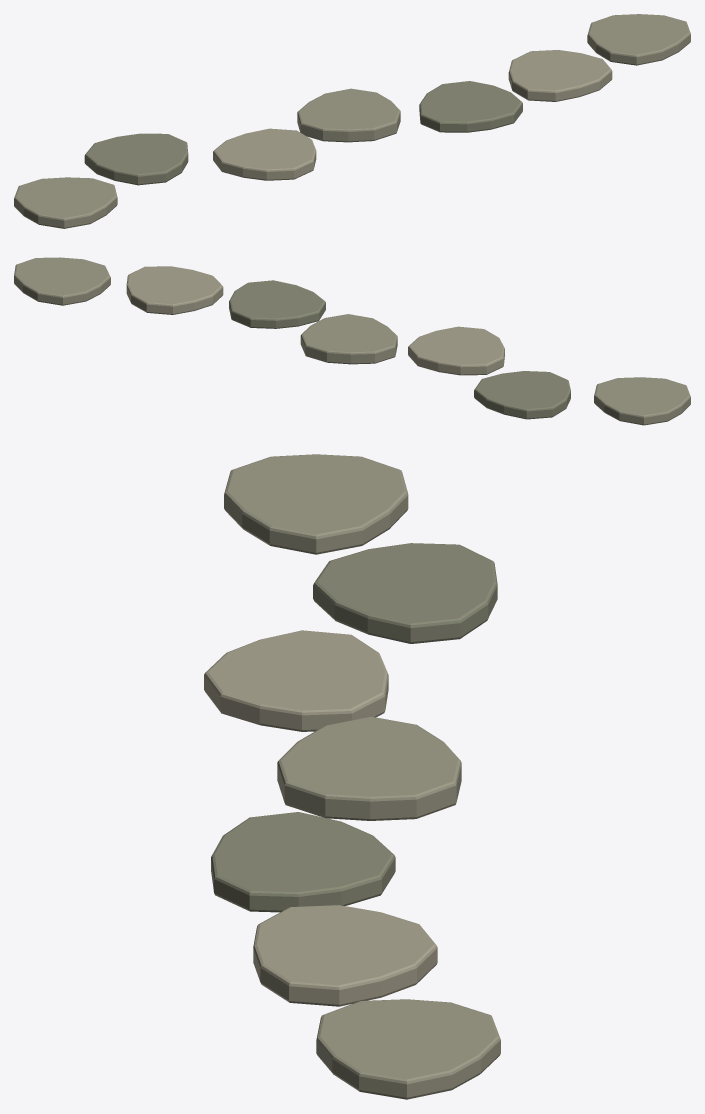
Rendered from gardentrail.glb.
3 views of the same model, one above another, from view 1: azimuth 30°, elevation 25°; view 2: azimuth 150°, elevation 25°; view 3: azimuth 270°, elevation 25° (orthographic). The views are drawn at different scales.
Visible parts, largest first — view 1: individually-grounded-stone-3, individually-grounded-stone-5, individually-grounded-stone-2, individually-grounded-stone-1, individually-grounded-stone-4, individually-grounded-stone-6, individually-grounded-stone-0; view 2: individually-grounded-stone-3, individually-grounded-stone-5, individually-grounded-stone-2, individually-grounded-stone-1, individually-grounded-stone-4, individually-grounded-stone-6, individually-grounded-stone-0; view 3: individually-grounded-stone-3, individually-grounded-stone-5, individually-grounded-stone-1, individually-grounded-stone-0, individually-grounded-stone-6, individually-grounded-stone-2, individually-grounded-stone-4.
Boxes of the visible parts, x1,y1,x2,y2 form: individually-grounded-stone-3: [297, 88, 400, 142]; individually-grounded-stone-5: [508, 50, 612, 101]; individually-grounded-stone-2: [213, 128, 316, 180]; individually-grounded-stone-1: [84, 133, 188, 185]; individually-grounded-stone-4: [419, 81, 522, 132]; individually-grounded-stone-6: [587, 14, 690, 65]; individually-grounded-stone-0: [14, 177, 117, 228]; individually-grounded-stone-3: [300, 314, 397, 364]; individually-grounded-stone-5: [126, 266, 223, 314]; individually-grounded-stone-2: [408, 326, 504, 375]; individually-grounded-stone-1: [474, 371, 570, 419]; individually-grounded-stone-4: [229, 280, 325, 328]; individually-grounded-stone-6: [14, 257, 110, 305]; individually-grounded-stone-0: [594, 377, 690, 425]; individually-grounded-stone-3: [277, 716, 461, 820]; individually-grounded-stone-5: [253, 905, 437, 1006]; individually-grounded-stone-1: [313, 543, 497, 643]; individually-grounded-stone-0: [224, 454, 408, 554]; individually-grounded-stone-6: [316, 999, 500, 1099]; individually-grounded-stone-2: [204, 630, 388, 731]; individually-grounded-stone-4: [211, 812, 395, 912].
Bounding box in the file's own units: 3.28 × 0.0589 × 0.656.
